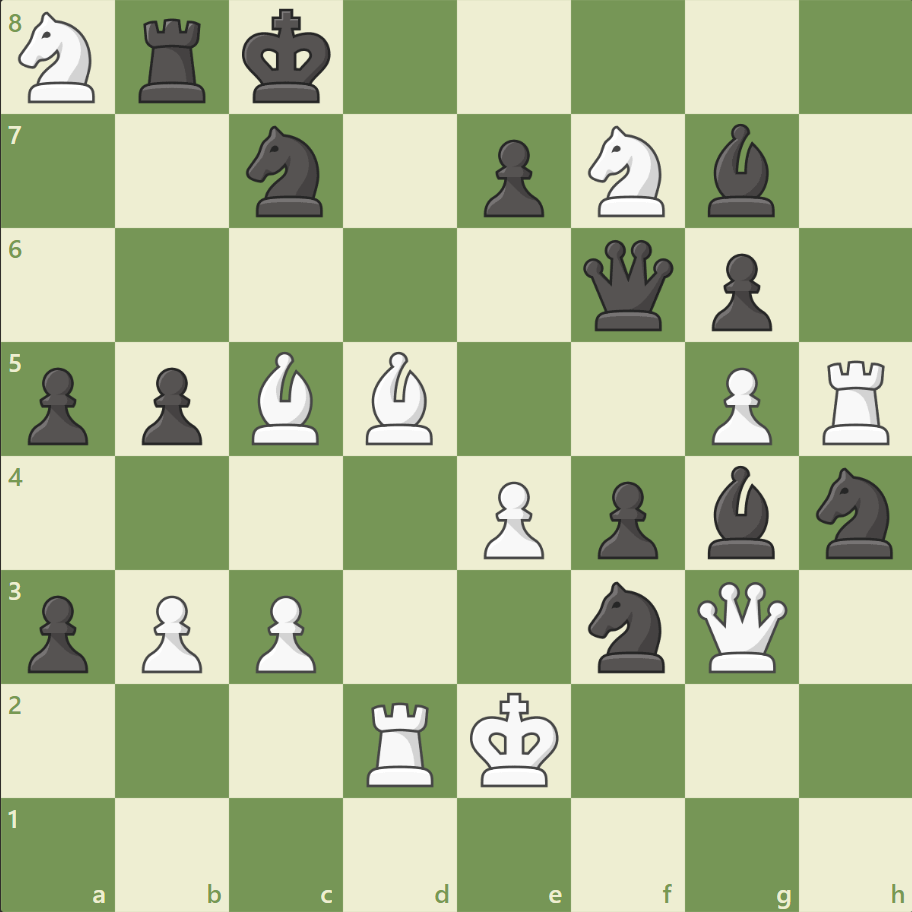B: (244, 347, 328, 449), (358, 347, 442, 449)
K: (465, 685, 565, 793)
N: (11, 7, 108, 110), (579, 121, 676, 223)
P: (701, 359, 776, 450), (474, 473, 549, 564), (133, 586, 208, 677), (247, 586, 322, 677)
Q: (691, 576, 790, 676)
R: (814, 352, 897, 449), (360, 693, 442, 790)
b: (698, 460, 782, 563), (698, 120, 782, 222)
k: (238, 4, 338, 112)
n: (806, 461, 903, 564), (238, 121, 335, 223), (579, 575, 676, 677)
p: (474, 132, 549, 223), (701, 246, 776, 337), (20, 359, 95, 450), (133, 359, 208, 450), (20, 586, 95, 677), (588, 473, 662, 564)
q: (578, 236, 677, 335)
r: (133, 12, 215, 109)
